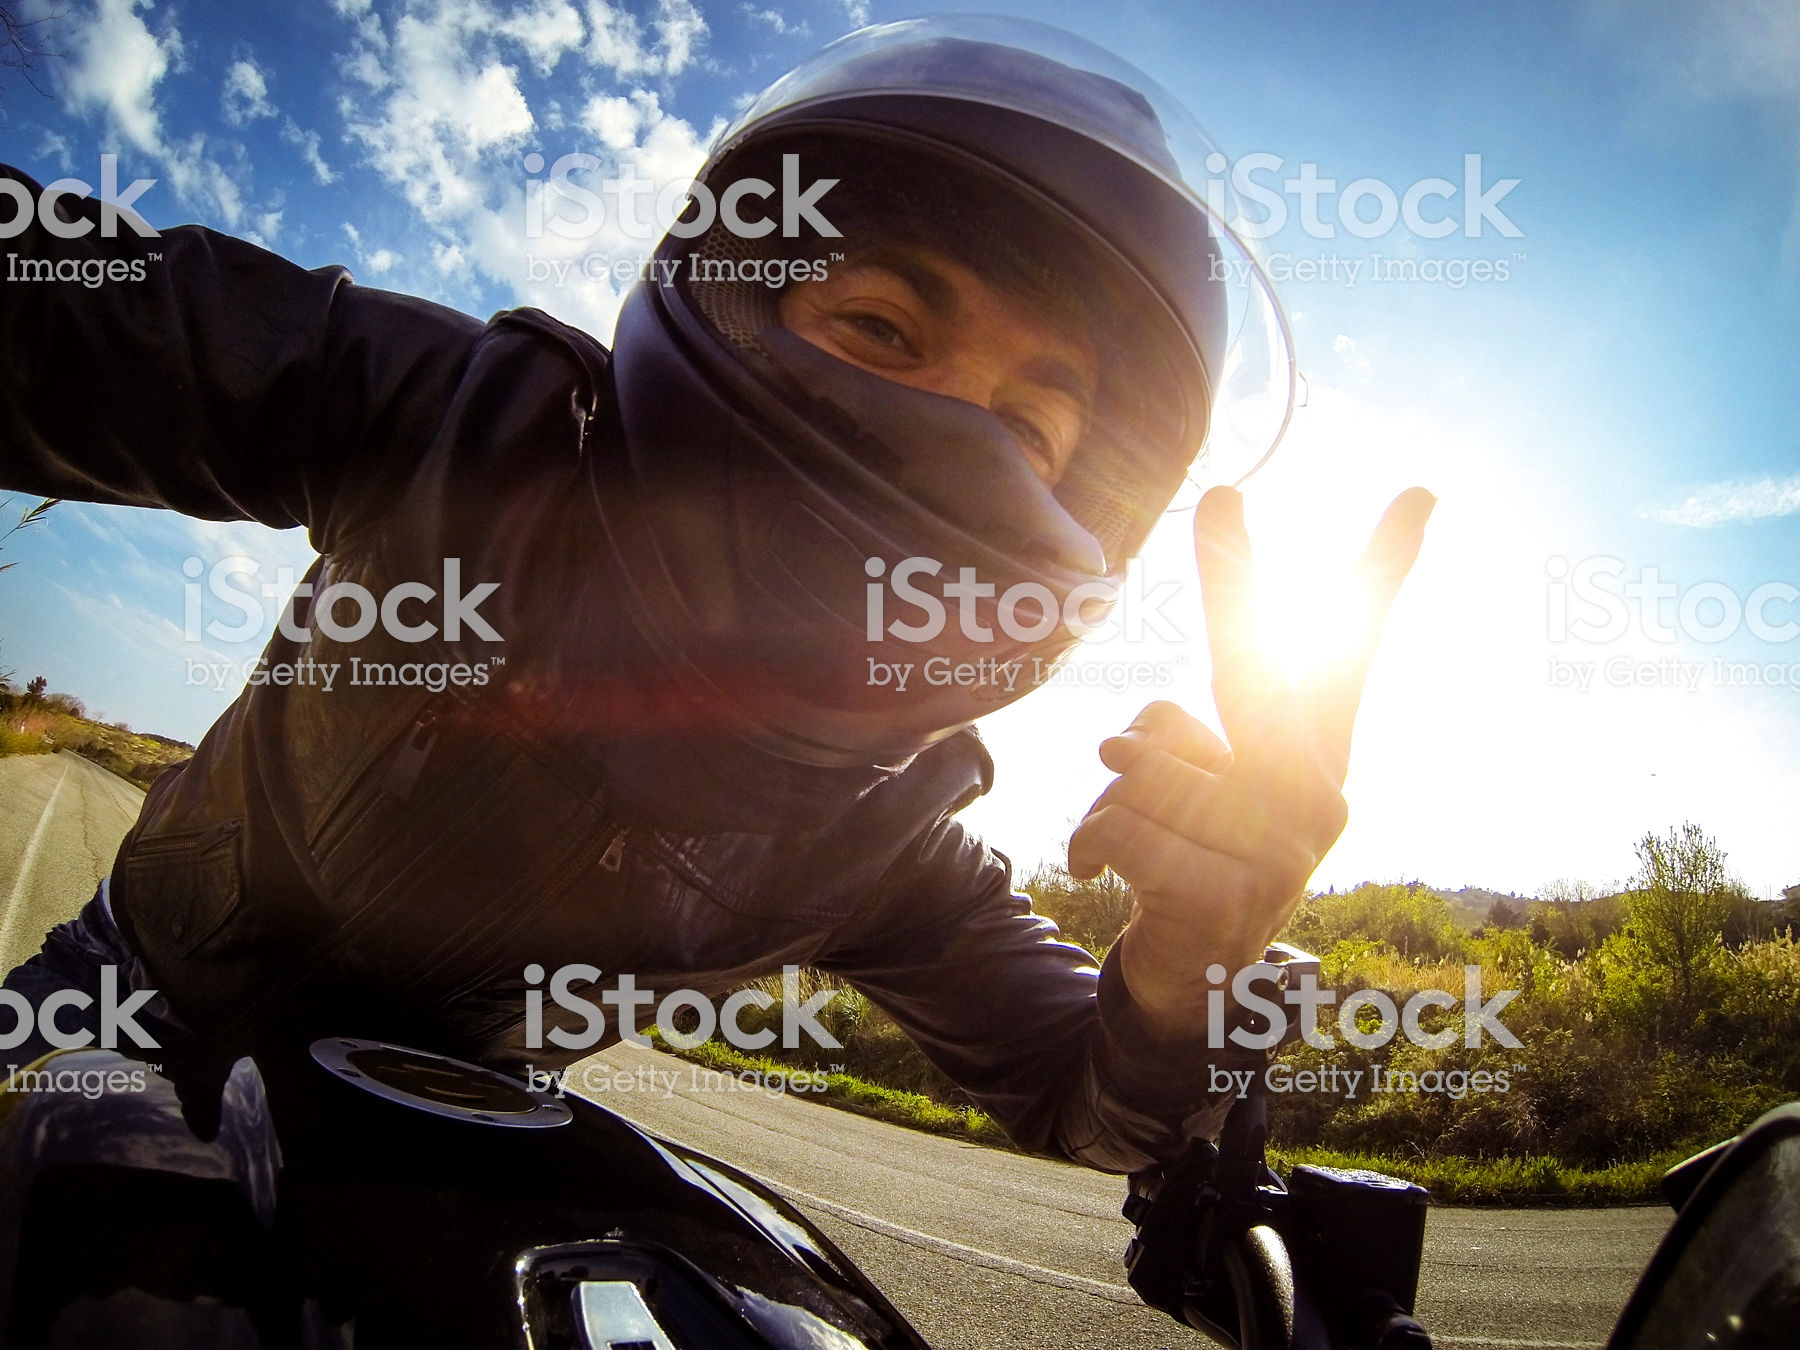helmet: (597, 23, 1286, 730)
